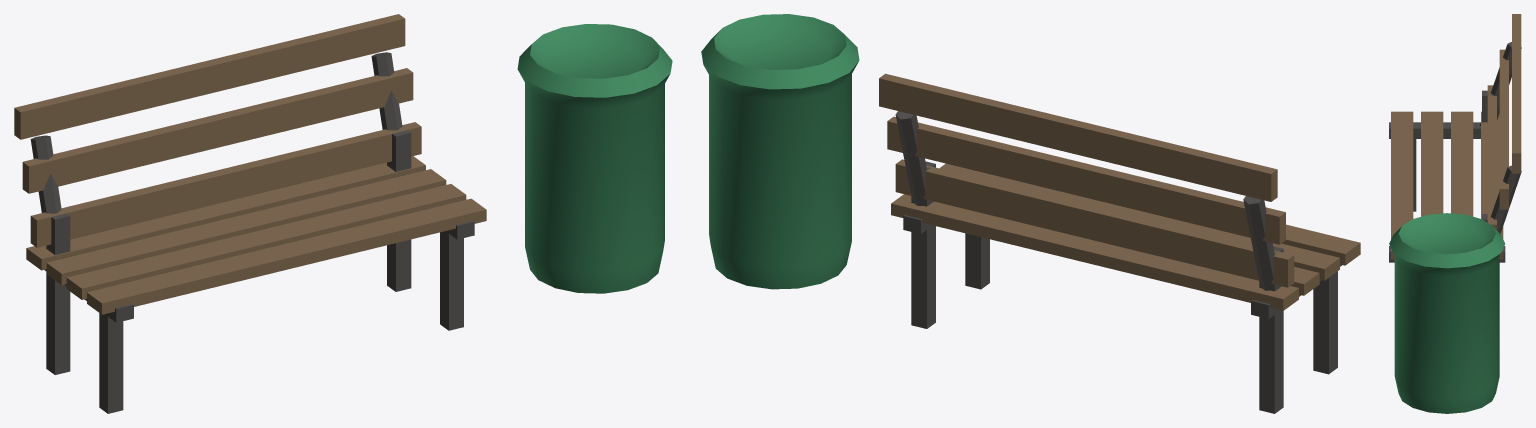
Rendered from city_bench.fbx.
3 renders of one model, left to right at view 1: azimuth 30°, elevation 25°; view 2: azimuth 150°, elevation 25°; view 3: azimuth 270°, elevation 25°, orthographic. The views are drawn at different scales.
Parts seen in each view (by area): view 1: timber_1, green_1, trimdk_1; view 2: timber_1, green_1, trimdk_1; view 3: green_1, timber_1, trimdk_1.
Boxes of the visible parts, <box> form: timber_1: <box>14,14,486,314</box>; green_1: <box>517,24,672,293</box>; trimdk_1: <box>30,52,474,413</box>; timber_1: <box>879,73,1360,310</box>; green_1: <box>701,14,859,289</box>; trimdk_1: <box>895,111,1342,413</box>; green_1: <box>1389,213,1504,413</box>; timber_1: <box>1391,14,1521,259</box>; trimdk_1: <box>1389,42,1521,262</box>.
Bounding box in the file's own units: 0.274 × 0.11 × 0.0708.
